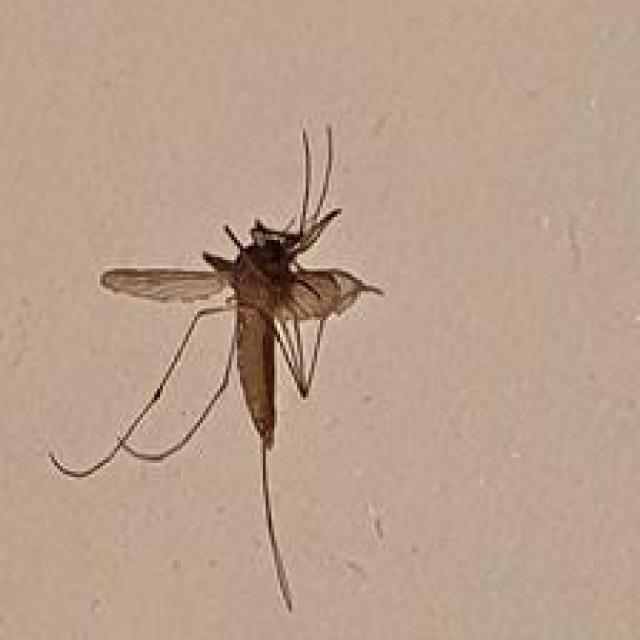Culex: (46, 121, 386, 613)
